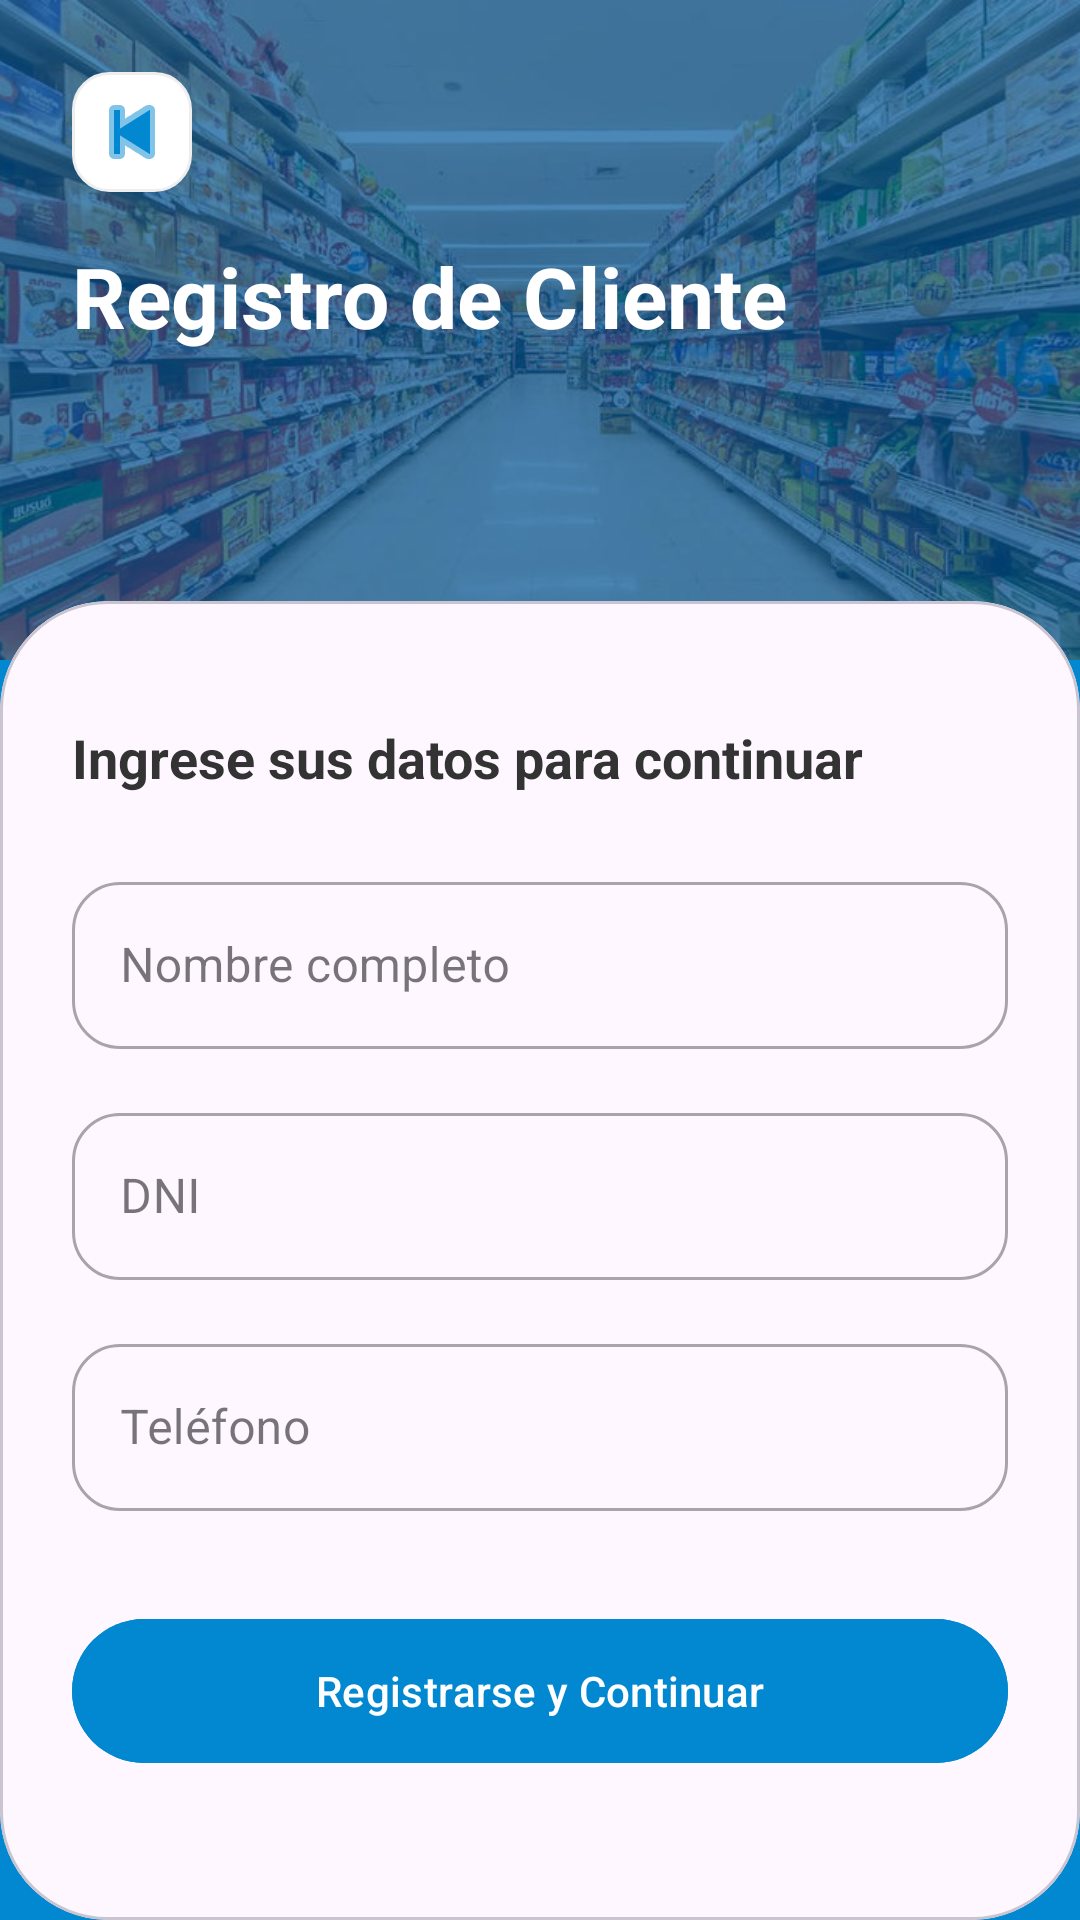

Locate icon controls on the screen. Image size 1080w x 1920h, boxes as (x1, y1, x2, y2).
Volver: (72, 72, 192, 192)
